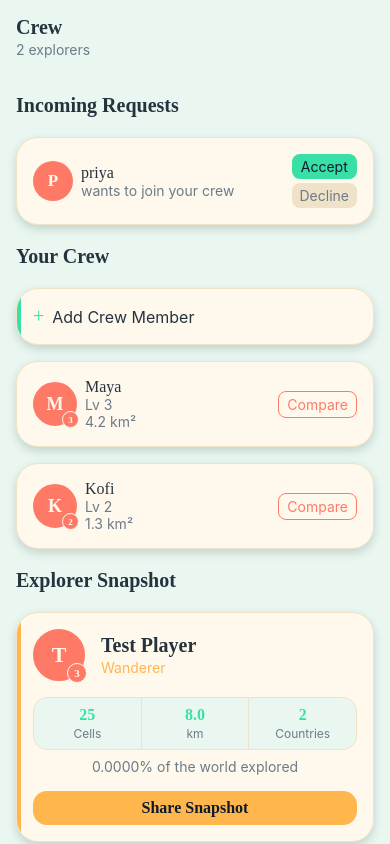
Test case: FriendsScreen › declining a request removes it
The image size is (390, 844).
Click the button with test id "request-decline-req-3" at (324, 196), box [292, 183, 357, 208]
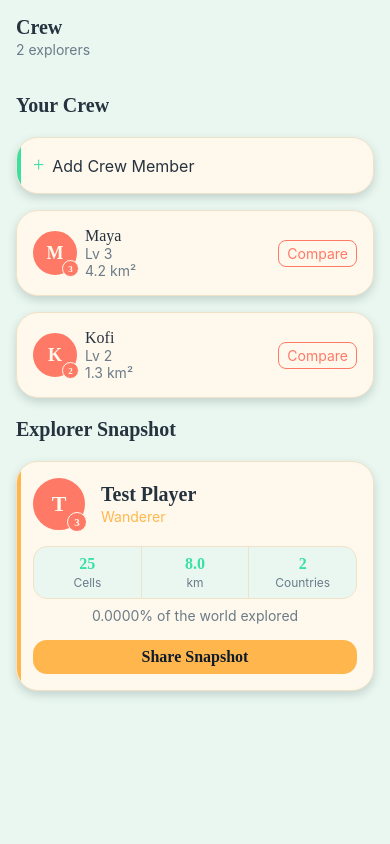
Now the element with test id "request-card-req-3" is gone
